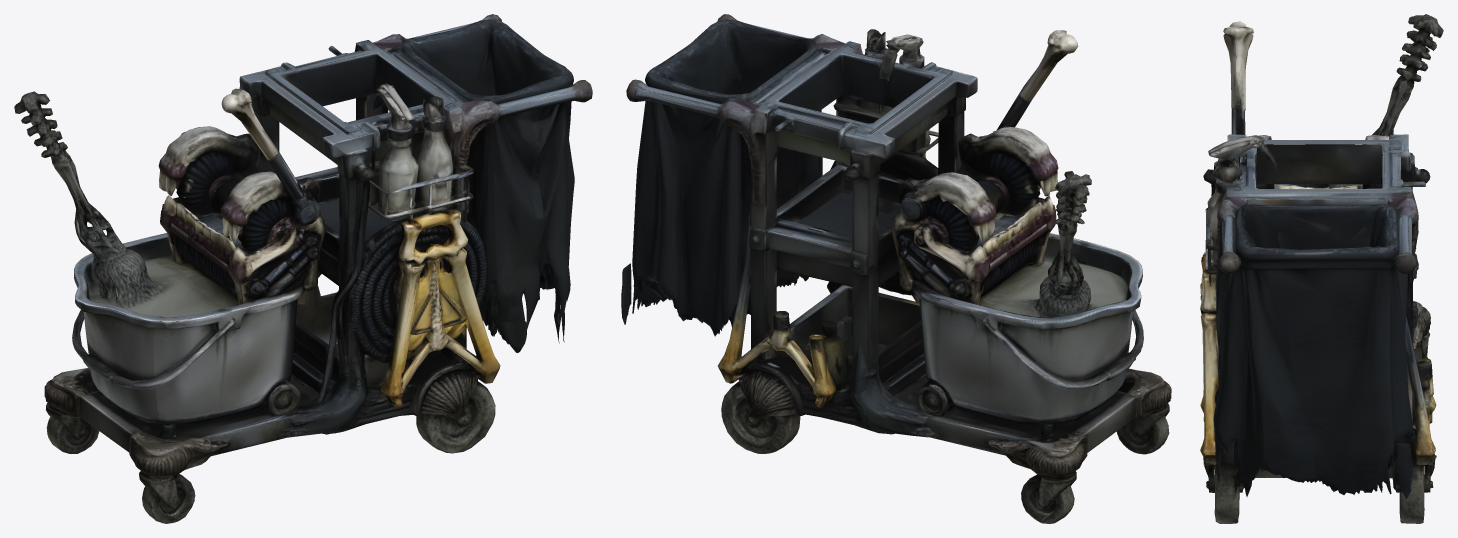
The model's file is life_janitor_cart.glb.
3 views of the same model, side by side, from view 1: azimuth 30°, elevation 25°; view 2: azimuth 150°, elevation 25°; view 3: azimuth 270°, elevation 25° (orthographic). The views are drawn at different scales.
Parts seen in each view (by area): view 1: node_0; view 2: node_0; view 3: node_0.
Part boxes in pixels (box(x1,y1,x2,y2)): node_0: box(14, 14, 592, 523); node_0: box(621, 14, 1171, 523); node_0: box(1200, 14, 1443, 523).
Bounding box in the file's own units: 0.9776 × 0.7916 × 0.4419.
1 material, 1 textured.
